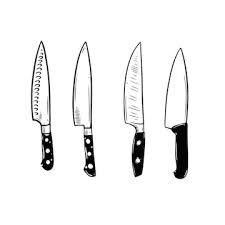Knife: (72, 40, 96, 177), (163, 47, 188, 178), (30, 39, 53, 170), (123, 41, 145, 177)
